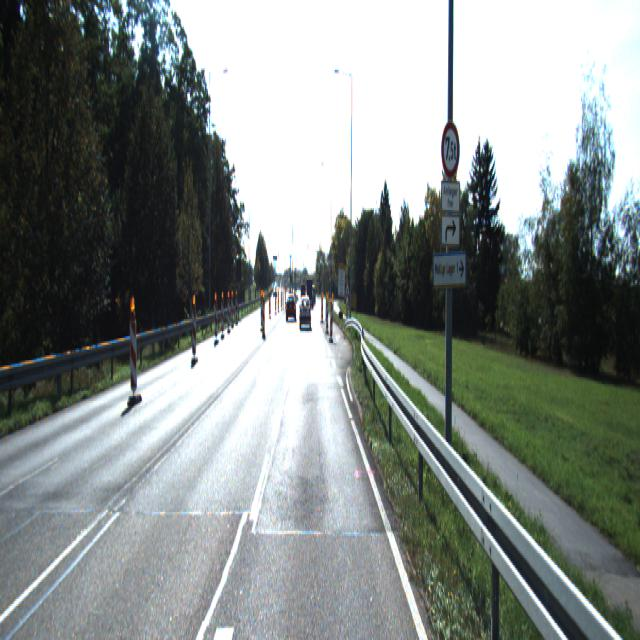Car: (300, 296, 312, 327), (286, 295, 296, 323)
